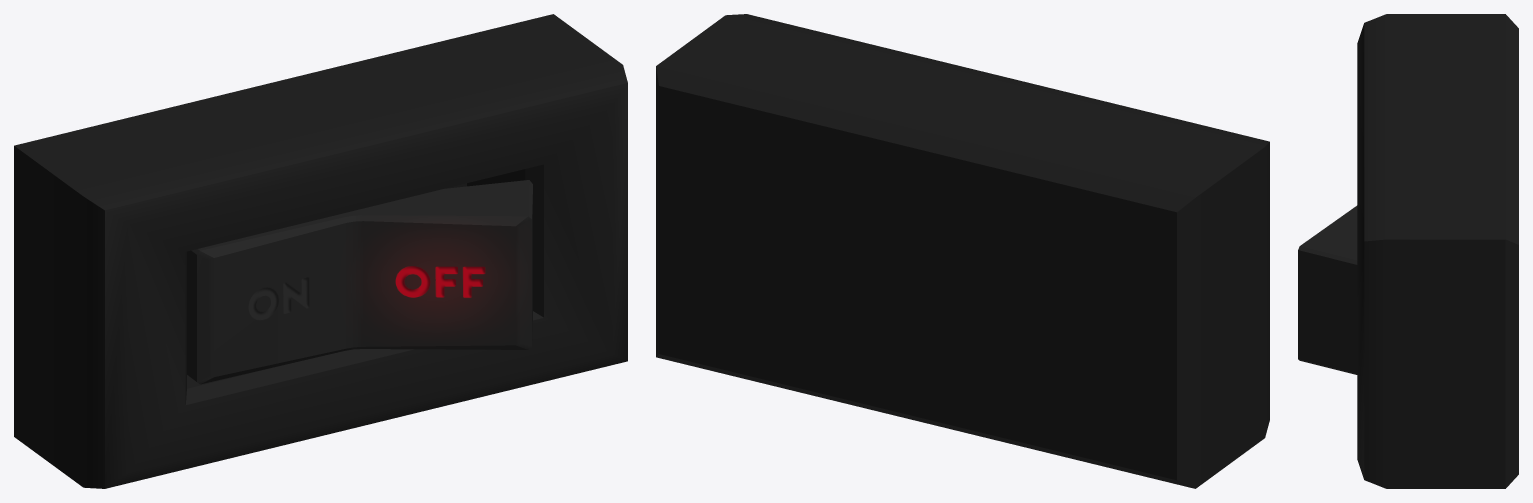
The model's file is button_switch_black_onoff.fbx.
The picture shows the model from 3 angles, left to right: view 1: azimuth 30°, elevation 25°; view 2: azimuth 150°, elevation 25°; view 3: azimuth 270°, elevation 25°; orthographic projection. The views are drawn at different scales.
Visible parts, largest first — view 1: button_base, button_switch; view 2: button_base; view 3: button_base, button_switch.
Part boxes in pixels (x1,y1,x2,y2): button_base: (14, 14, 627, 488); button_switch: (187, 180, 532, 384); button_base: (656, 14, 1269, 488); button_base: (1357, 14, 1518, 488); button_switch: (1298, 205, 1357, 374).
Bounding box in the file's own units: 10.56 × 5.44 × 4.37.
2 materials, 1 textured.
